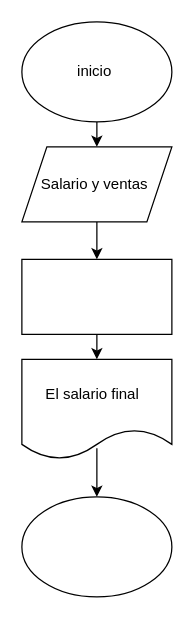
This 194x619 diagram has some shape labels left out. The centre of each missing label's shape, as x and y in pixels:
"final" belongs at (96,546).
"salario+(ventas*0.10) F=0.10 Redon(total*100)/100" belongs at (96,296).
